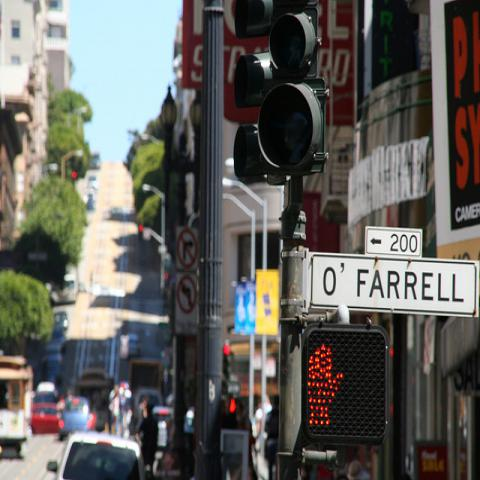bus: (0, 356, 33, 442), (126, 353, 167, 394)
car: (48, 431, 145, 474), (60, 396, 96, 439), (29, 390, 61, 434), (152, 406, 174, 446), (36, 380, 55, 391)
